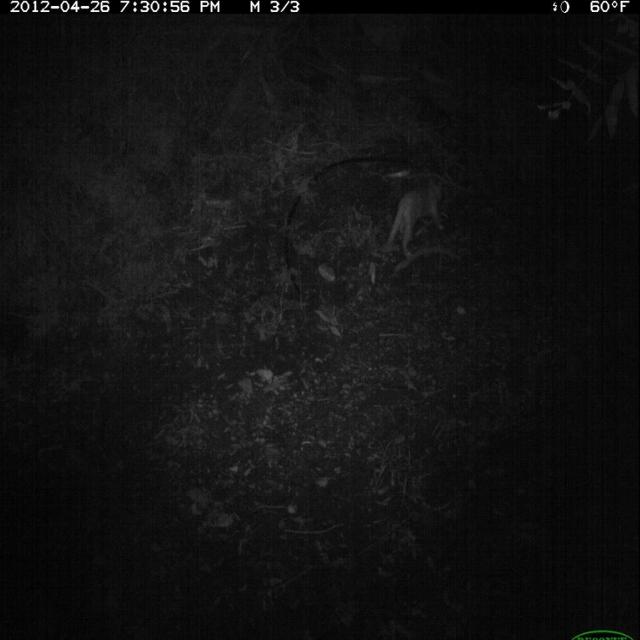cat: (383, 175, 449, 261)
